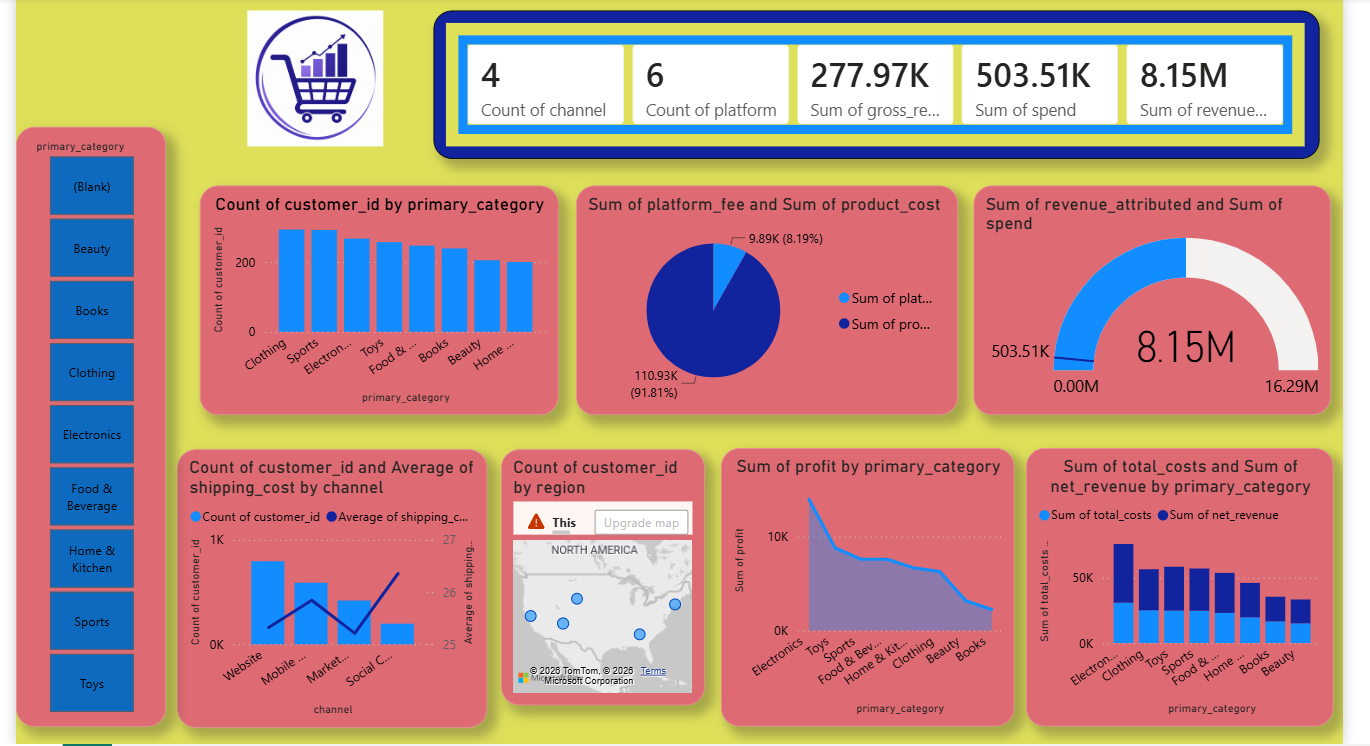

The page's visual inventory and layout, read from the dashboard file:
{"tool":"powerbi","page":{"name":"Page 1","canvas":[1280,720],"ordinal":0},"visuals":[{"type":"cardVisual","fields":{"Data":["Count(orders (1).channel)","Count(marketing_spend.platform)","Sum(orders (1).gross_revenue)","Sum(marketing_spend.spend)","Sum(marketing_spend.revenue_attributed)"]},"box":[403,12.1,855.4,143.6],"z":0},{"type":"columnChart","fields":{"Y":["CountNonNull(orders (1).customer_id)"],"Category":["orders (1).primary_category"]},"box":[177.3,181,346.2,222],"z":1000},{"type":"lineStackedColumnComboChart","fields":{"Y":["CountNonNull(orders (1).customer_id)"],"Category":["orders (1).channel"],"Y2":["Avg(orders (1).shipping_cost)"]},"box":[155.6,435.5,299.2,269],"z":2000},{"type":"areaChart","fields":{"Category":["orders (1).primary_category"],"Y":["Sum(orders (1).profit)"]},"box":[680.4,434.3,283.5,269],"z":3000},{"type":"map","fields":{"Category":["orders (1).region"],"Size":["CountNonNull(orders (1).customer_id)"]},"box":[468.1,435.5,196.6,247.3],"z":4000},{"type":"lineStackedColumnComboChart","fields":{"Category":["orders (1).primary_category"],"Y":["Sum(orders (1).total_costs)","Sum(orders (1).net_revenue)"]},"box":[974.8,434.3,296.8,269],"z":5000},{"type":"pieChart","fields":{"Y":["Sum(orders (1).platform_fee)","Sum(orders (1).product_cost)"]},"box":[540.5,181,369.2,222],"z":6000},{"type":"gauge","fields":{"Y":["Sum(marketing_spend.revenue_attributed)"],"TargetValue":["Sum(marketing_spend.spend)"]},"box":[924.1,181,345,222],"z":7000},{"type":"slicer","fields":{"Values":["orders (1).primary_category"]},"box":[0,124.3,144.8,579.1],"z":8000},{"type":"image","box":[164.1,12.1,249.7,131.5],"z":9000}]}

Visuals, with their boxes on the page's 1280x720 design canvas (x1, y1, x2, y2). These are canvas units, not pixel positions in the 1370x746 screenshot, which may show the page scaled, cropped or inside an application window:
cardVisual - Count(orders (1).channel) x Count(marketing_spend.platform): rect(403, 12, 1258, 156)
columnChart - CountNonNull(orders (1).customer_id) x orders (1).primary_category: rect(177, 181, 524, 403)
lineStackedColumnComboChart - CountNonNull(orders (1).customer_id) x orders (1).channel: rect(156, 436, 455, 704)
areaChart - orders (1).primary_category x Sum(orders (1).profit): rect(680, 434, 964, 703)
map - orders (1).region x CountNonNull(orders (1).customer_id): rect(468, 436, 665, 683)
lineStackedColumnComboChart - orders (1).primary_category x Sum(orders (1).total_costs): rect(975, 434, 1272, 703)
pieChart - Sum(orders (1).platform_fee) x Sum(orders (1).product_cost): rect(540, 181, 910, 403)
gauge - Sum(marketing_spend.revenue_attributed) x Sum(marketing_spend.spend): rect(924, 181, 1269, 403)
slicer - orders (1).primary_category: rect(0, 124, 145, 703)
image: rect(164, 12, 414, 144)
